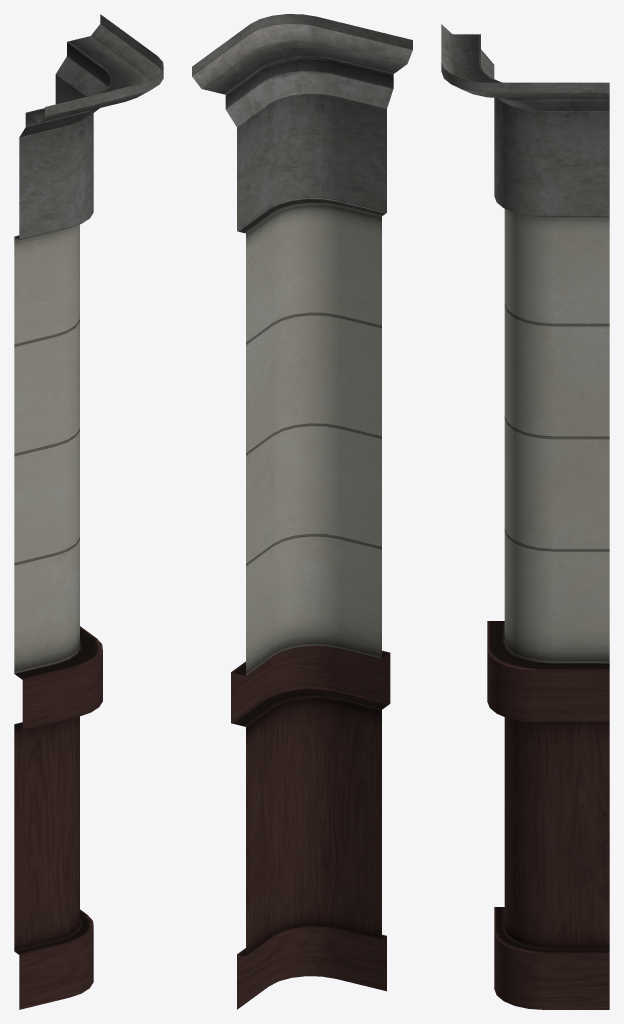
File: Wall 6 Corner Pillar 2.fbx
The picture shows the model from 3 angles, left to right: view 1: azimuth 30°, elevation 25°; view 2: azimuth 150°, elevation 25°; view 3: azimuth 270°, elevation 25°; orthographic projection. The views are drawn at different scales.
Visible parts, largest first — view 1: Wall_6_Corner_Pillar_2; view 2: Wall_6_Corner_Pillar_2; view 3: Wall_6_Corner_Pillar_2.
Boxes of the visible parts, left/top/right/bottom form: Wall_6_Corner_Pillar_2: left=14, top=14, right=163, bottom=1009; Wall_6_Corner_Pillar_2: left=192, top=14, right=412, bottom=1009; Wall_6_Corner_Pillar_2: left=441, top=24, right=609, bottom=1009.
Size of the model in its own units: 46.62 by 300 by 48.12.
